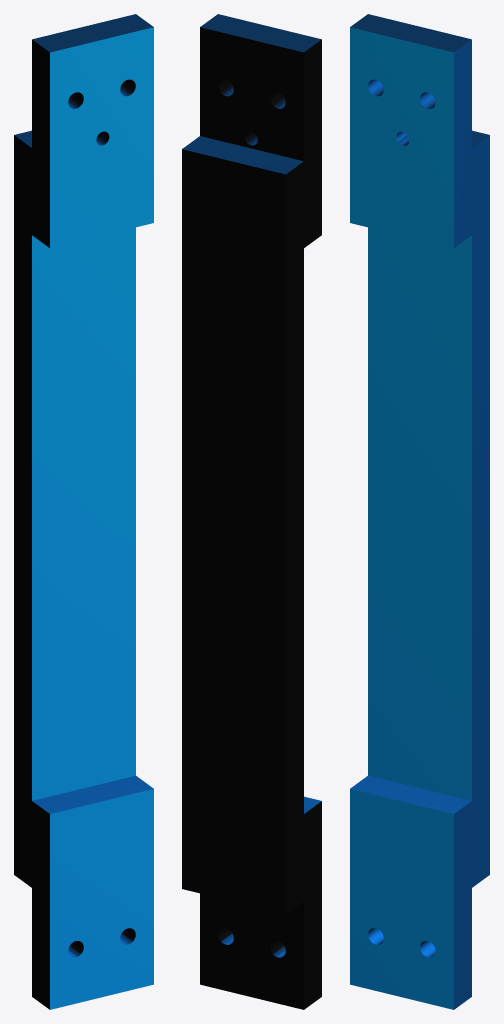
The model's file is Step16.FBX.
The picture shows the model from 3 angles, left to right: view 1: azimuth 30°, elevation 25°; view 2: azimuth 150°, elevation 25°; view 3: azimuth 330°, elevation 25°; orthographic projection.
Visible parts, largest first — view 1: part39; view 2: part39; view 3: part39.
Boxes of the visible parts, x1,y1,x2,y2 form: part39: [14, 14, 153, 1009]; part39: [182, 14, 321, 1009]; part39: [350, 14, 489, 1009].
Size of the model in its own units: 6.35 by 55.88 by 3.81.
Materials: 1 (1 with a texture image).
